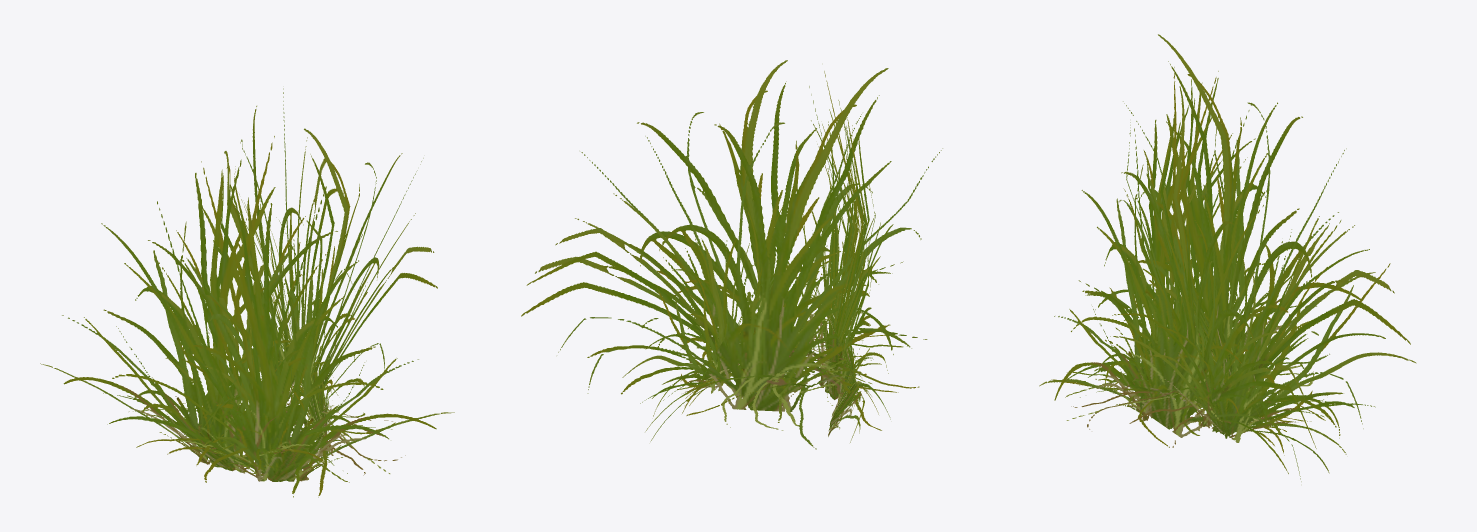
The model's file is grass_lolipop_small.gltf.
The picture shows the model from 3 angles, left to right: view 1: azimuth 30°, elevation 25°; view 2: azimuth 150°, elevation 25°; view 3: azimuth 270°, elevation 25°; orthographic projection. The views are drawn at different scales.
Parts seen in each view (by area): view 1: grass_lolipop_small; view 2: grass_lolipop_small; view 3: grass_lolipop_small.
Part boxes in pixels (x1,y1,x2,y2): grass_lolipop_small: (40, 88, 454, 497); grass_lolipop_small: (521, 60, 942, 449); grass_lolipop_small: (1039, 34, 1416, 481).
Bounding box in the file's own units: 0.2649 × 0.2498 × 0.2482.
1 material, 1 textured.
